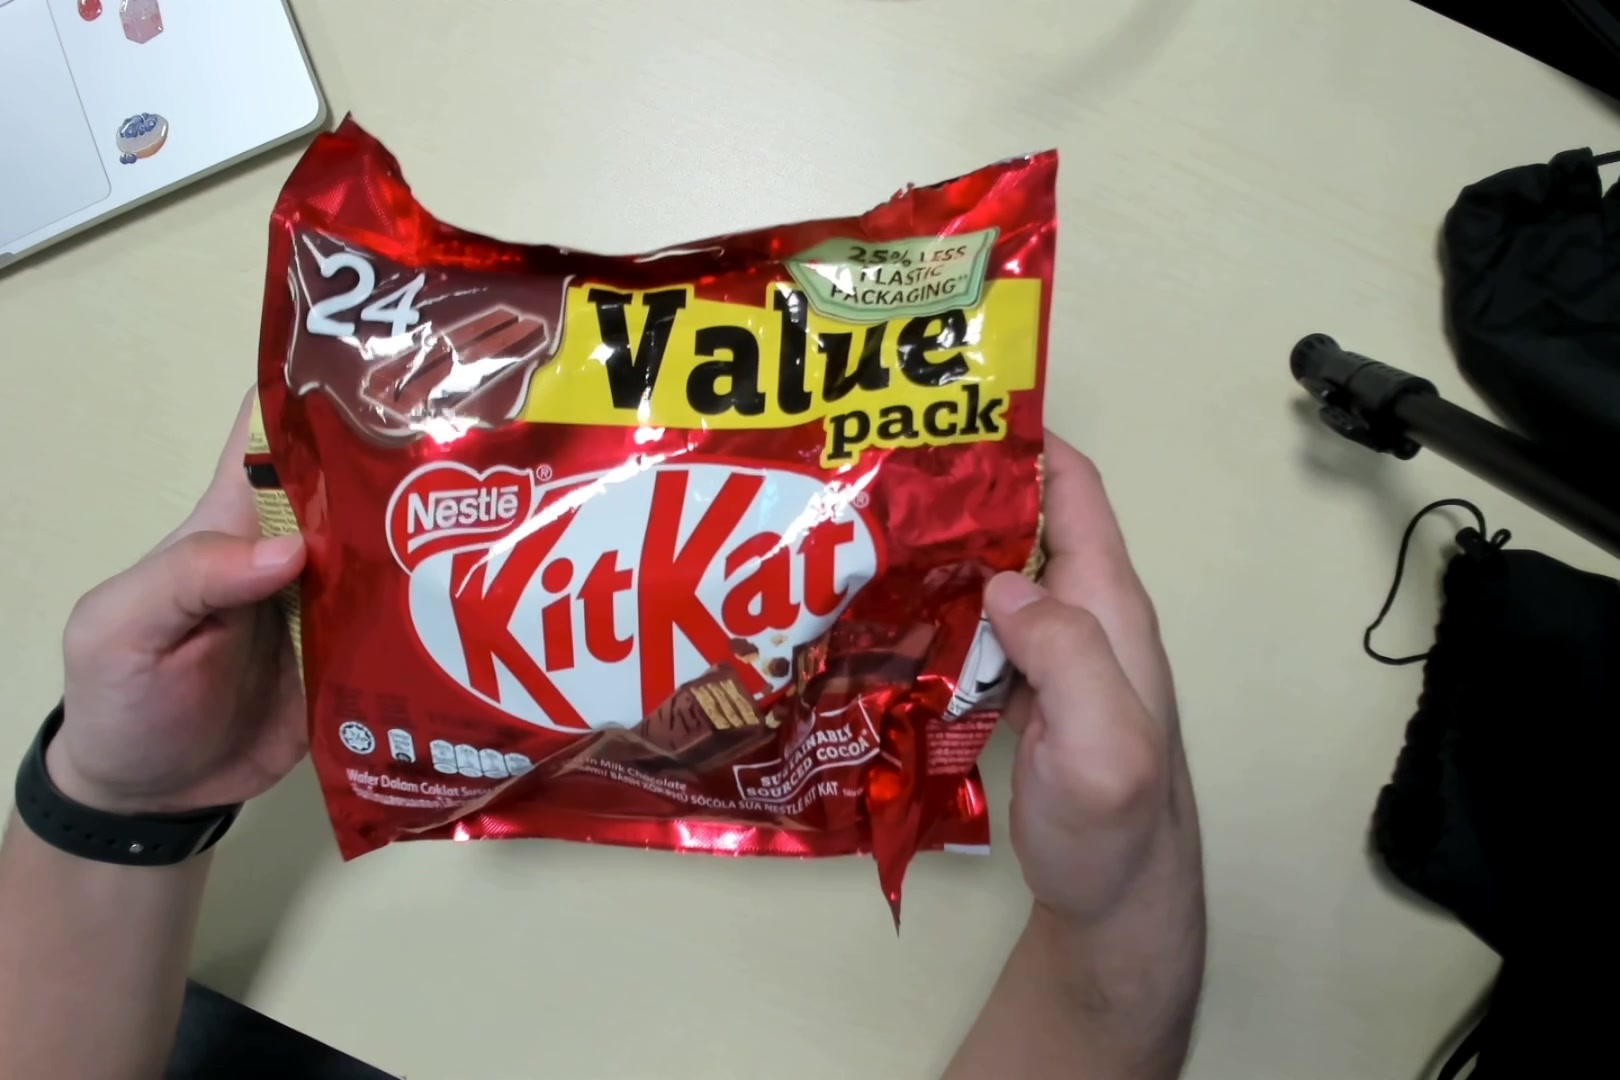SweetsChocolatesOthers_400-499g_Halal_NonHealthy: (243, 137, 1044, 871)
